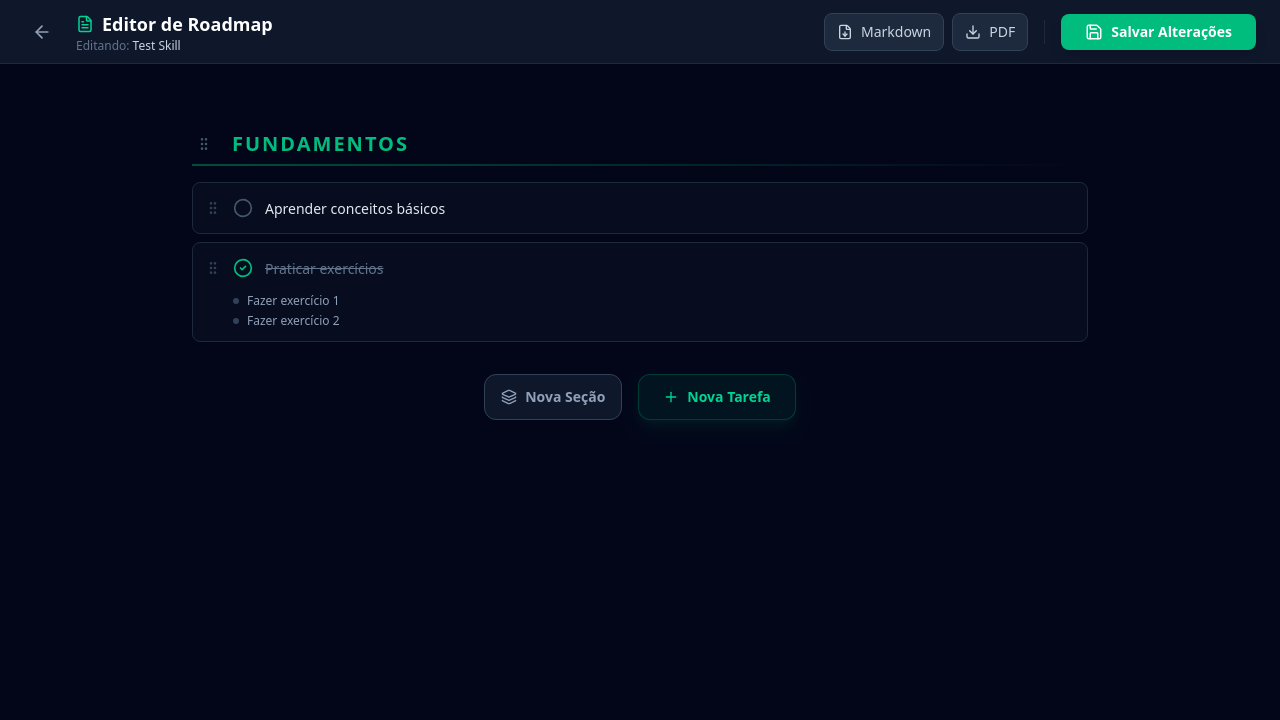
Scenario: FullRoadmapEditor Component › adds new section when Nova Seção button is clicked
This screenshot has width=1280, height=720.
Click the button "Nova Seção": (553, 397) left=484, top=374, right=622, bottom=420
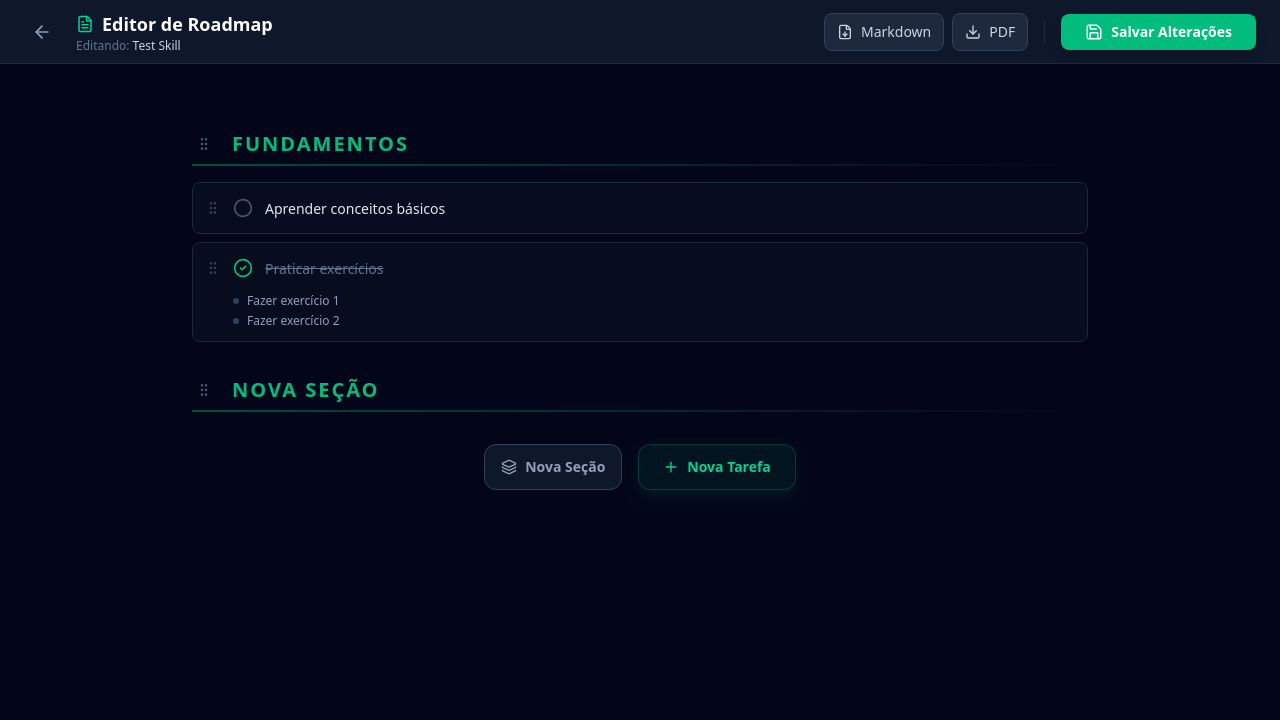
Now the 6th field showing "NOVA SEÇÃO" is shown, box left=232, top=376, right=1040, bottom=404
